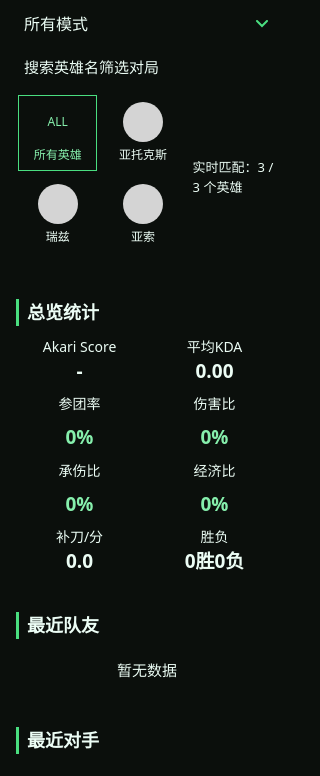
Test case: SidebarPanel 英雄筛选磁贴墙 › 输入称号片段（剑魔）实时过滤出唯一目标英雄（"所有英雄"占位常驻）
Type "剑魔" into the field with class "champion-search" at (147, 67), box [16, 50, 278, 84]
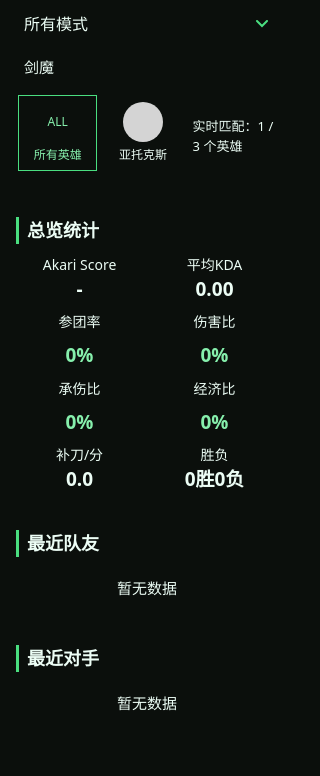
expect the elements with class "tile-label" read "所有英雄", "亚托克斯", in this order: met, box [34, 146, 82, 164]; [119, 146, 167, 164]
